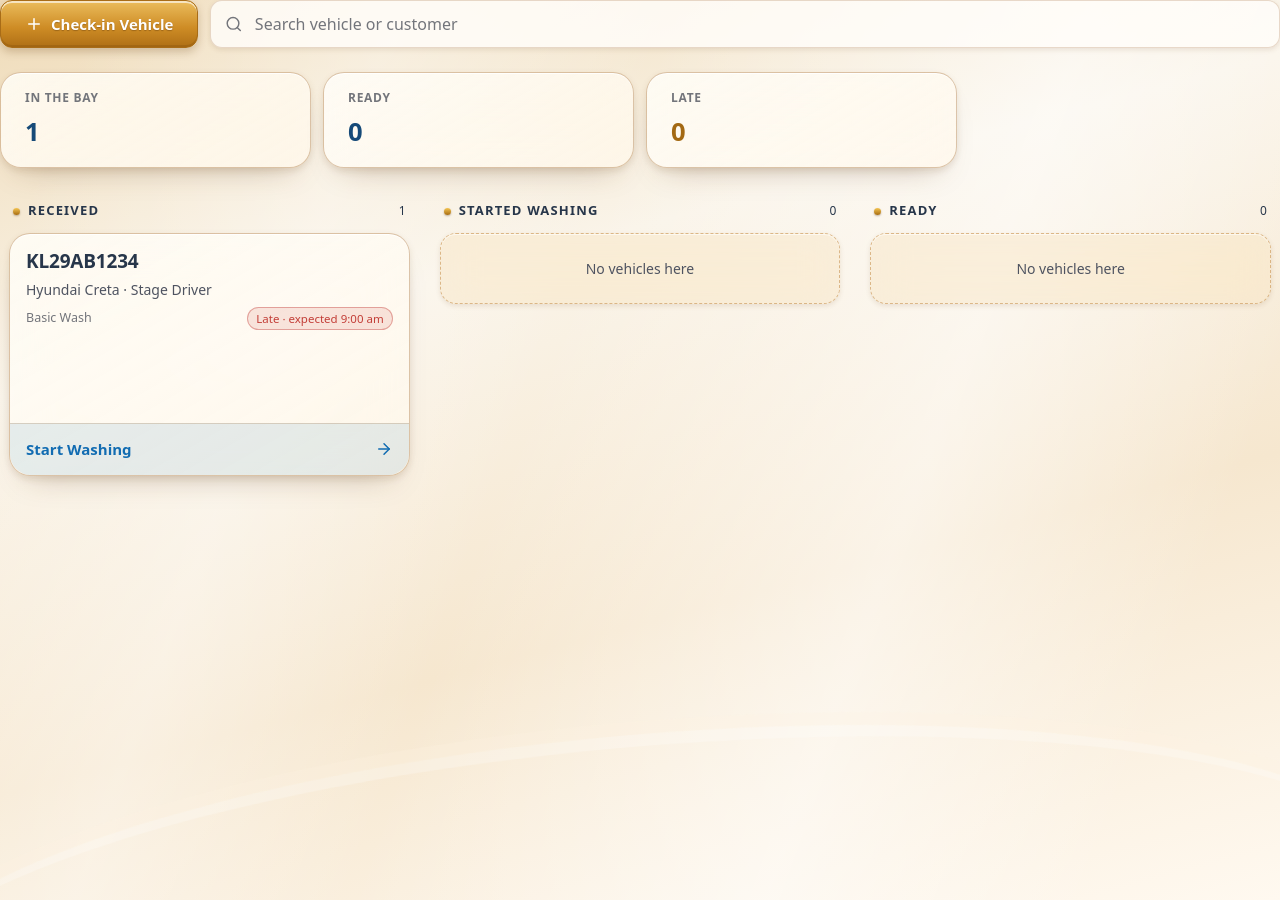
it: customer updates in vehicle detail › shows status and permits retry only for EMPLOYEE owner role
This screenshot has width=1280, height=900.
Step 1. Click the button "KL29AB1234" → click(209, 288), box [10,234,409,342]
(page scrolled)
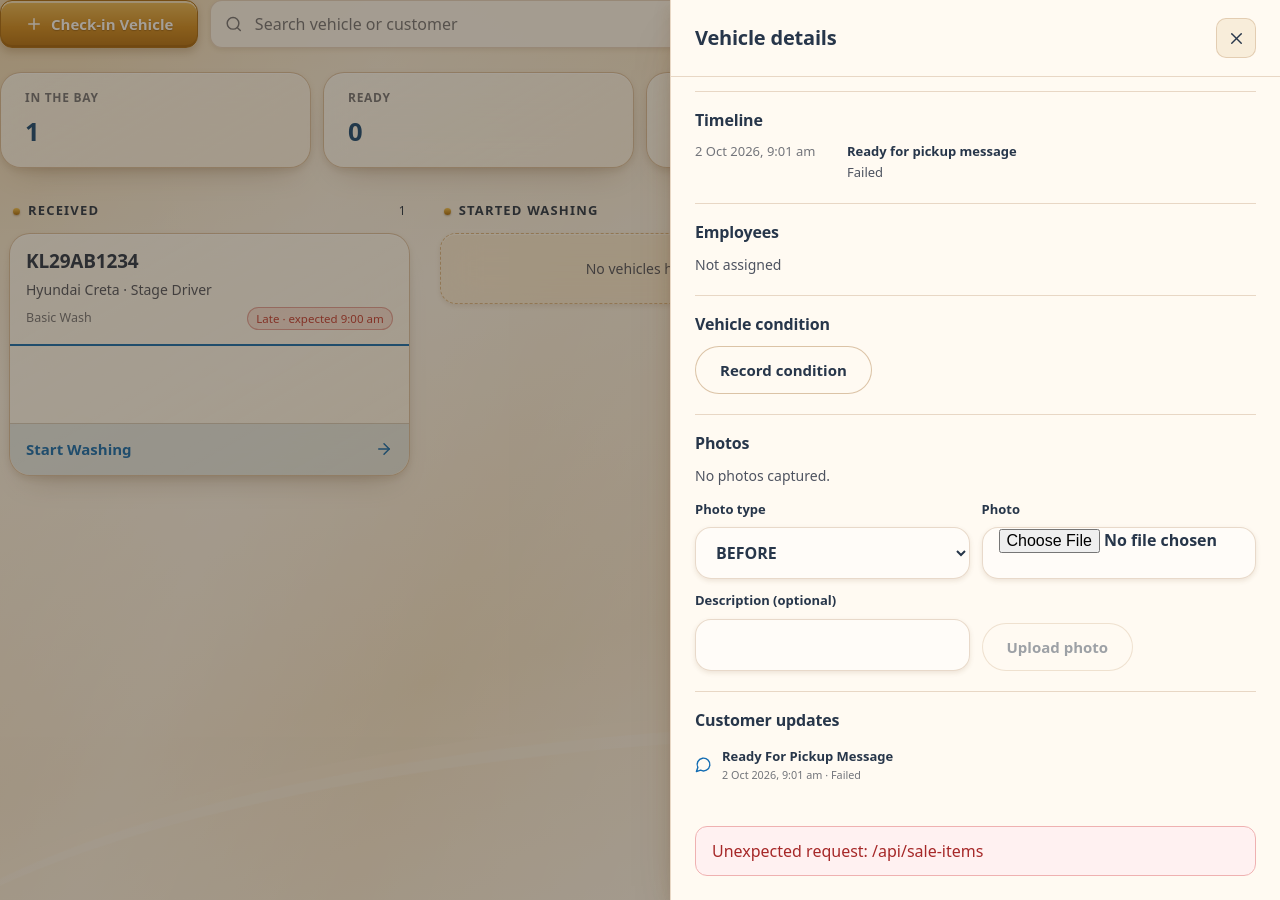
Expected: the heading "Customer updates" is shown, [695,709,839,731]
Expected: the text "2 Oct 2026, 9:01 am · Failed" is shown, [722,767,861,782]
